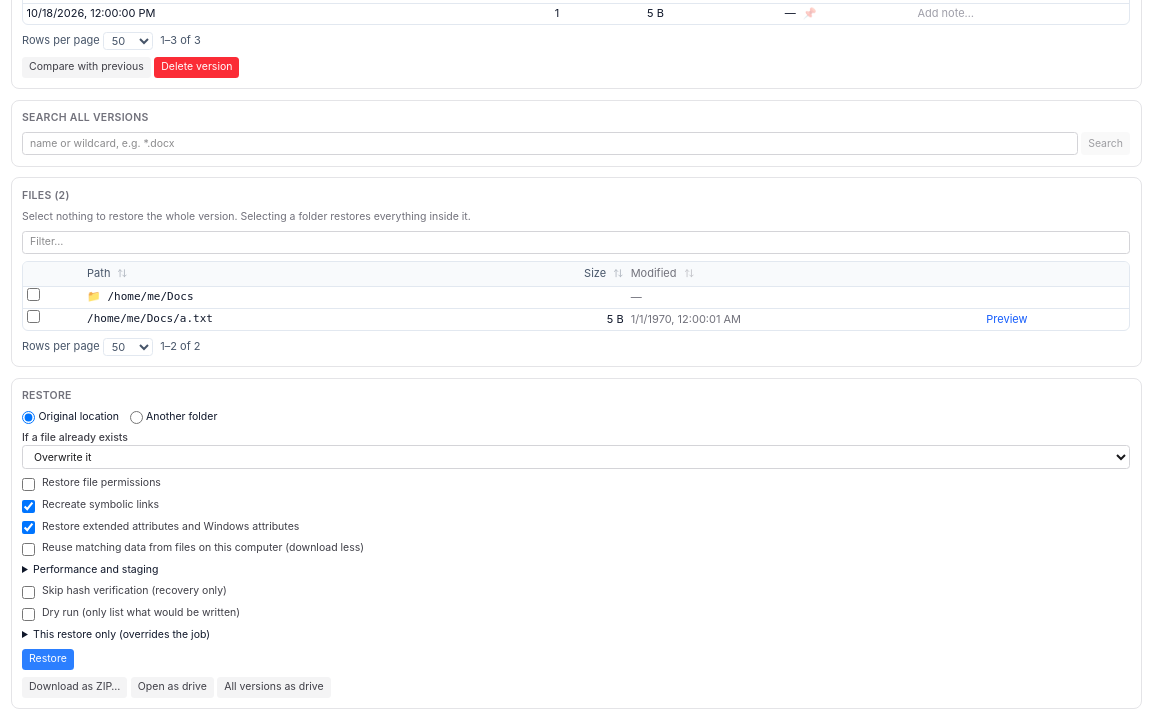
Test: restore view › downloads the selection as a ZIP through the save dialog
(page scrolled)
Expected: the element with test id "backup-file-list" shows "a.txt", [87, 312, 213, 325]
What coordinates should you click on to do the following:
click the button with test id "backup-download-archive"
I would click on:
 (75, 687)
Its box is [22, 676, 127, 698].
(page scrolled)
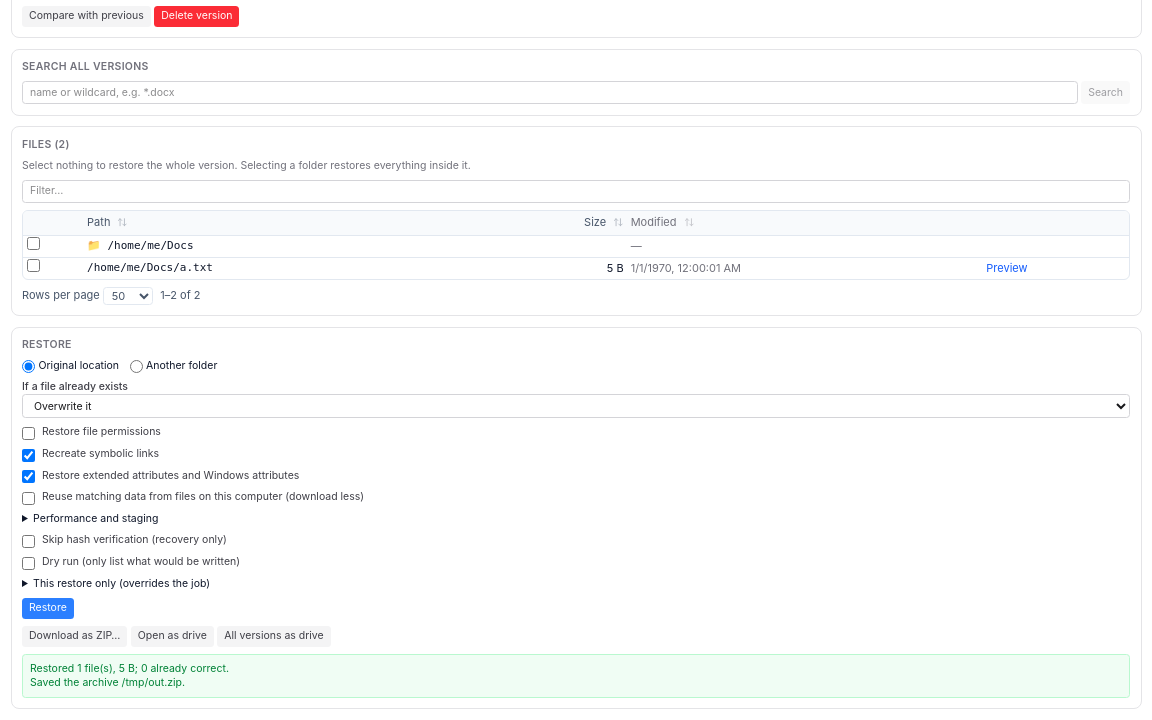
Expected: the text "Saved the archive /tmp/out.zip." is shown, [30, 676, 185, 688]
